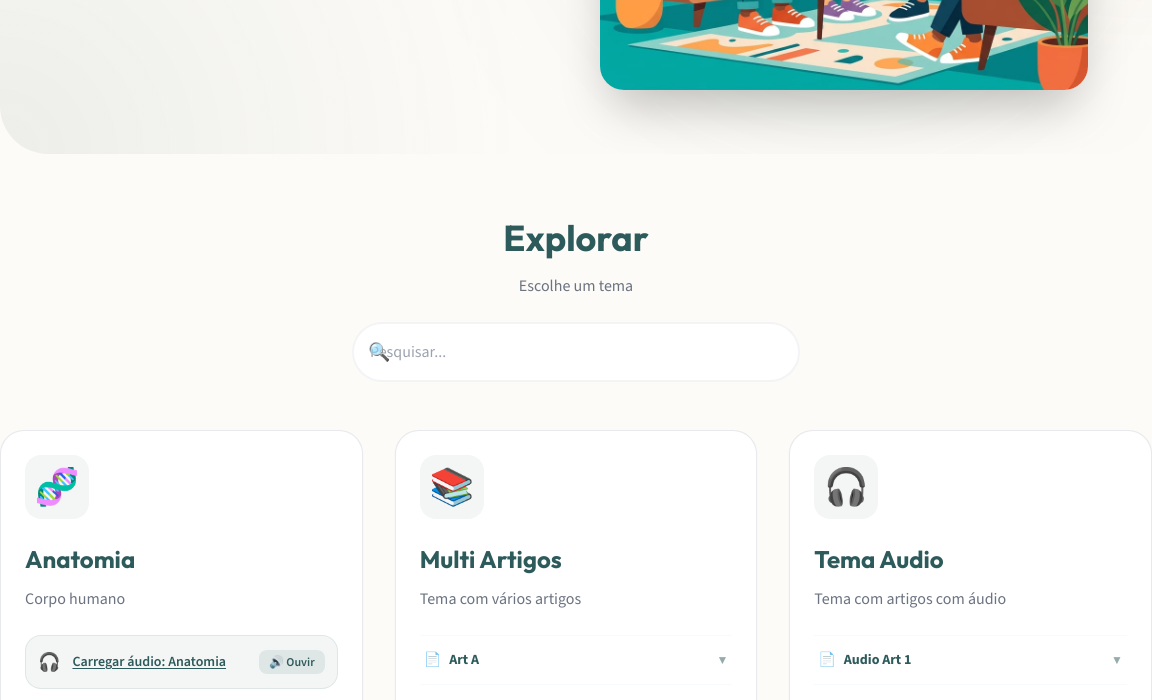
Test case: HomeTab › includes the search query in the no-results message
The image size is (1152, 700).
(page scrolled)
Expected: the heading "Anatomia" is shown, [25,544,135,574]
Type "xyz123" into the search field with placeholder "Pesquisar...".
click(576, 352); type("xyz123")  # box [352,322,800,382]
(page scrolled)
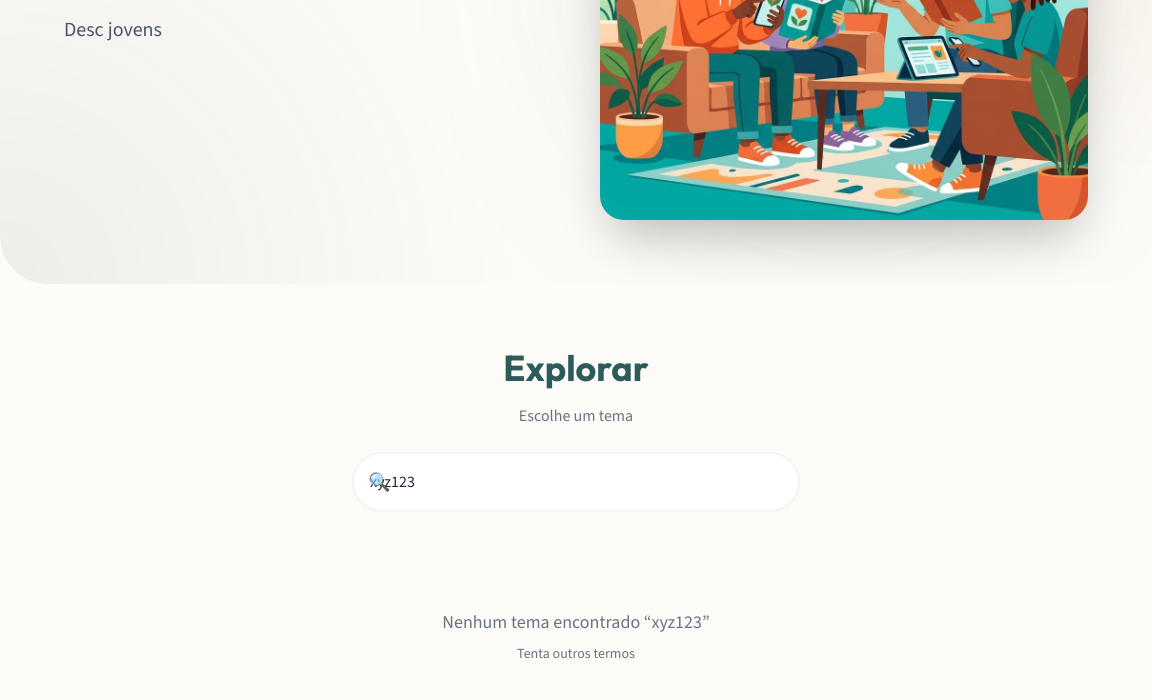
Expected: the text "Nenhum tema encontrado “xyz123”" is shown, [442,610,710,634]
